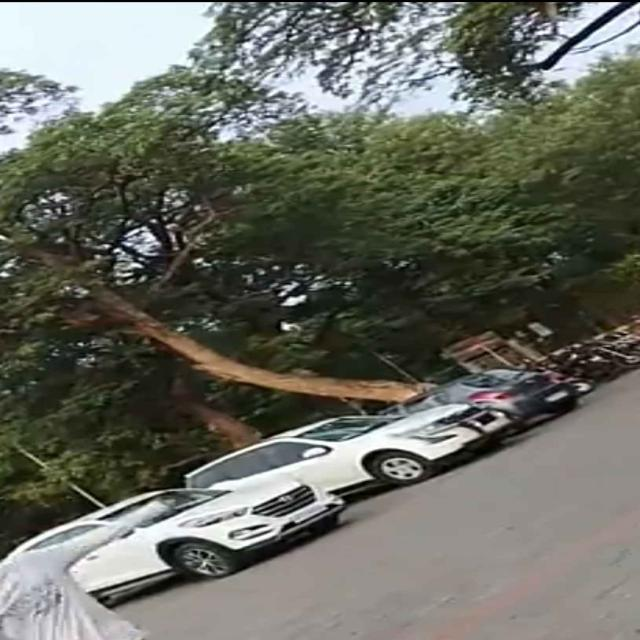car: (30, 483, 338, 592), (211, 403, 519, 499), (428, 362, 583, 423)
